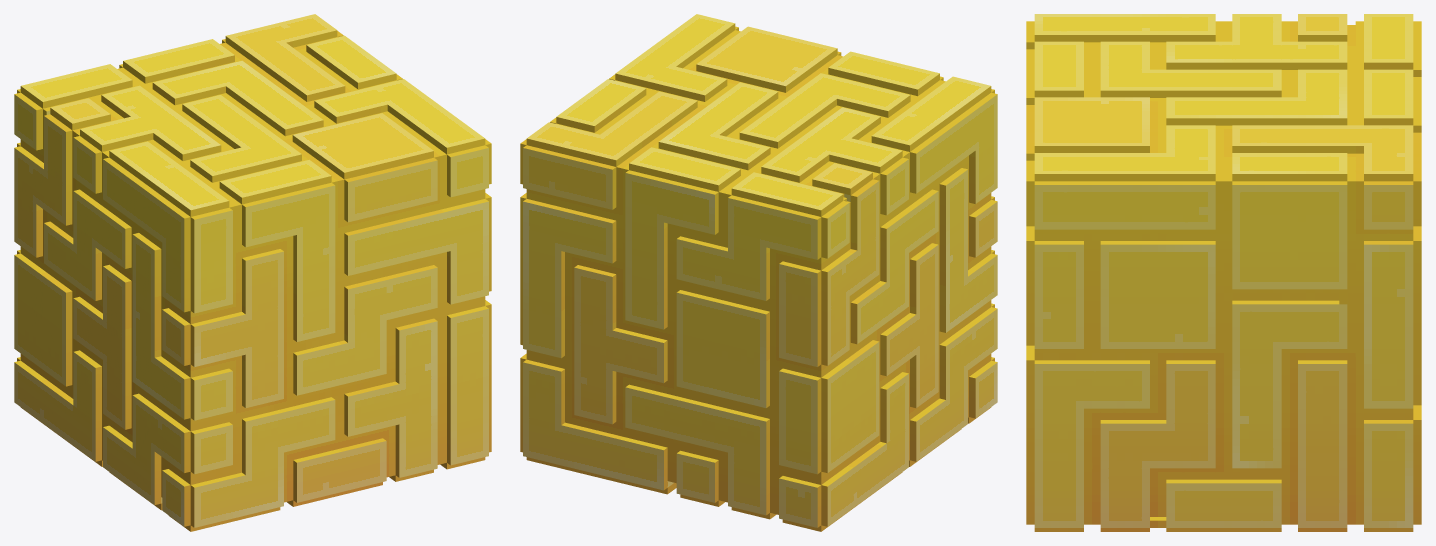
File: hexahedron_1ao.fezao.glb
3 views of the same model, side by side, from view 1: azimuth 30°, elevation 25°; view 2: azimuth 150°, elevation 25°; view 3: azimuth 270°, elevation 25° (orthographic). The views are drawn at different scales.
Parts seen in each view (by area): view 1: HEXAHEDRON_1AO; view 2: HEXAHEDRON_1AO; view 3: HEXAHEDRON_1AO.
Boxes of the visible parts, x1,y1,x2,y2 form: HEXAHEDRON_1AO: (14, 14, 491, 531); HEXAHEDRON_1AO: (520, 14, 997, 531); HEXAHEDRON_1AO: (1026, 14, 1421, 531).
Bounding box in the file's own units: 3 × 3 × 3.
1 material, 1 textured.
